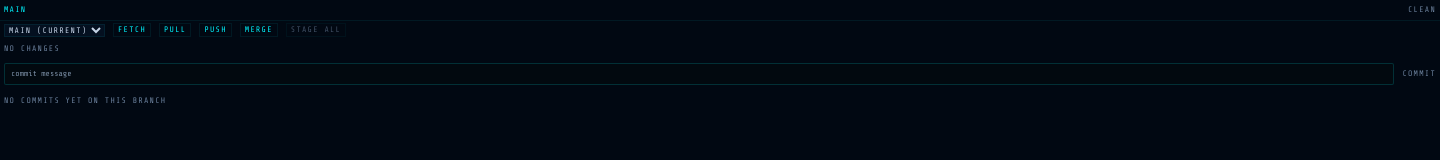
GitPanel › shows git's own words when the merge is refused
What coordinates should you click on to do the following:
click the button "Merge"
I would click on:
 (259, 30)
Its box is x1=240 y1=23 x2=278 y2=37.
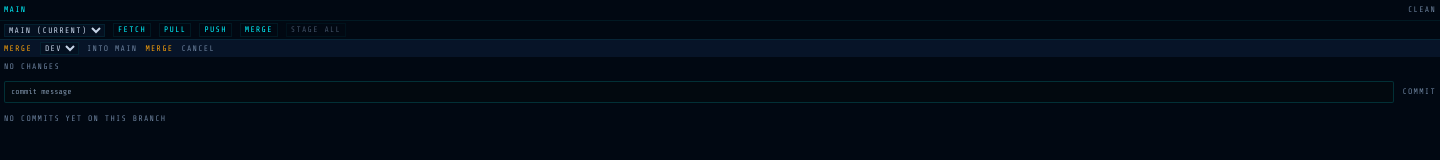
What coordinates should you click on to do the following:
click the button "MERGE"
I would click on:
 (159, 48)
Its box is x1=145 y1=42 x2=173 y2=54.
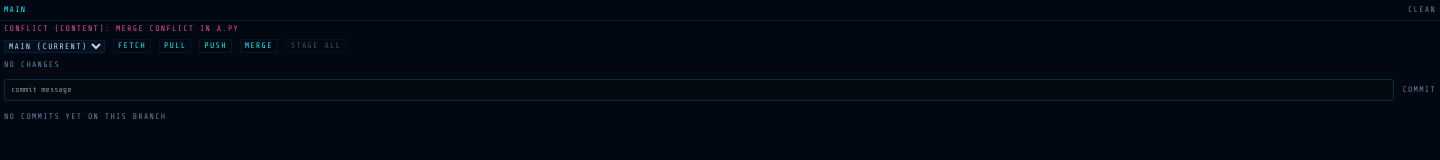
Expected: the message reads "CONFLICT (content): Merge conflict in a.py", x1=4 y1=24 x2=239 y2=33
